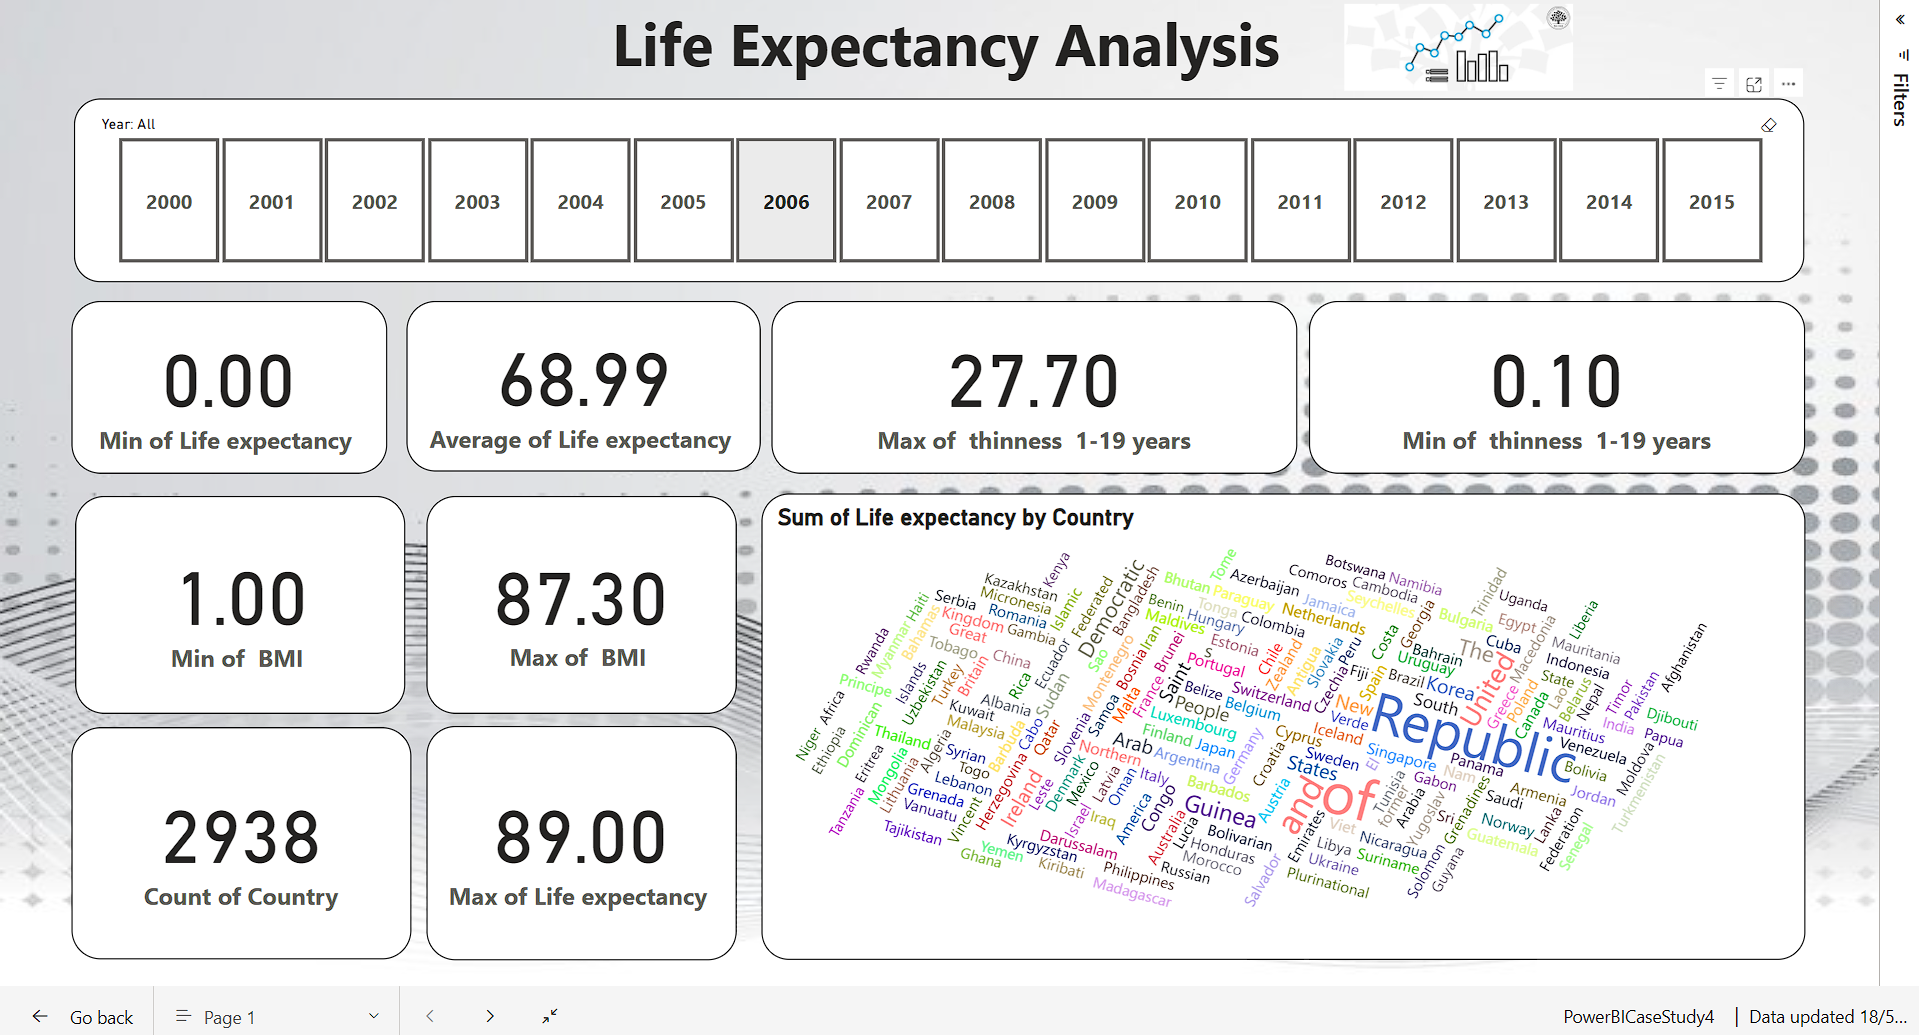

This screenshot's page, from the dashboard's own definition file:
{"tool":"powerbi","page":{"name":"Page 1","canvas":[1280,720],"ordinal":0},"visuals":[{"type":"textbox","box":[10,0,1270,74],"z":0},{"type":"slicer","fields":{"Values":["Life Expectancy Data.Year"]},"box":[10.8,74.3,1258.7,133.7],"z":1000},{"type":"WordCloud1447959067750","fields":{"Category":["Life Expectancy Data.Country"],"Values":["Sum(Life Expectancy Data.Life expectancy )"]},"box":[510.5,361.9,759,339],"z":2000},{"type":"card","fields":{"Values":["CountNonNull(Life Expectancy Data.Country)"]},"box":[9.5,532.1,247.1,168.8],"z":3000},{"type":"card","fields":{"Values":["Max(Life Expectancy Data.Life expectancy )"]},"box":[267.4,530.7,225.5,170.2],"z":4000},{"type":"card","fields":{"Values":["Avg(Life Expectancy Data.Life expectancy )"]},"box":[252.5,221.5,257.9,124.2],"z":5000},{"type":"card","fields":{"Values":["Min(Life Expectancy Data.Life expectancy )"]},"box":[9.5,221.5,229.6,125.6],"z":6000},{"type":"card","fields":{"Values":["Max(Life Expectancy Data. BMI )"]},"box":[267.4,363.3,225.5,158],"z":7000},{"type":"card","fields":{"Values":["Min(Life Expectancy Data. BMI )"]},"box":[12.2,363.3,240.4,158],"z":8000},{"type":"card","fields":{"Values":["Max(Life Expectancy Data. thinness  1-19 years)"]},"box":[518.6,221.5,382.2,125.6],"z":9000},{"type":"card","fields":{"Values":["Min(Life Expectancy Data. thinness  1-19 years)"]},"box":[908.9,221.5,360.6,125.6],"z":10000},{"type":"image","box":[756.3,1.2,523.7,73.4],"z":11000}]}

Visuals, with their boxes on the page's 1280x720 design canvas (x1, y1, x2, y2). These are canvas units, not pixel positions in the 1919x1035 screenshot, which may show the page scaled, cropped or inside an application window:
textbox: l=10, t=0, r=1280, b=74
slicer - Life Expectancy Data.Year: l=11, t=74, r=1270, b=208
WordCloud1447959067750 - Life Expectancy Data.Country x Sum(Life Expectancy Data.Life expectancy ): l=510, t=362, r=1270, b=701
card - CountNonNull(Life Expectancy Data.Country): l=10, t=532, r=257, b=701
card - Max(Life Expectancy Data.Life expectancy ): l=267, t=531, r=493, b=701
card - Avg(Life Expectancy Data.Life expectancy ): l=252, t=222, r=510, b=346
card - Min(Life Expectancy Data.Life expectancy ): l=10, t=222, r=239, b=347
card - Max(Life Expectancy Data. BMI ): l=267, t=363, r=493, b=521
card - Min(Life Expectancy Data. BMI ): l=12, t=363, r=253, b=521
card - Max(Life Expectancy Data. thinness  1-19 years): l=519, t=222, r=901, b=347
card - Min(Life Expectancy Data. thinness  1-19 years): l=909, t=222, r=1270, b=347
image: l=756, t=1, r=1280, b=75
